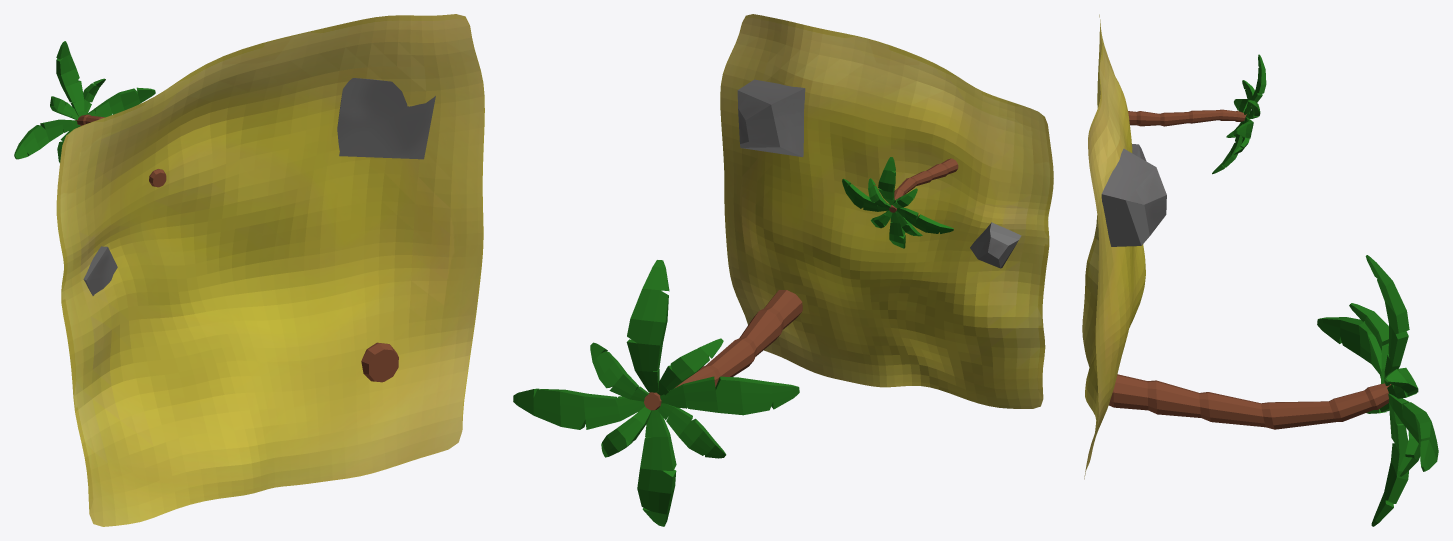
The model's file is Ilha Projeto Arcdade.fbx.
3 renders of one model, left to right at view 1: azimuth 30°, elevation 25°; view 2: azimuth 150°, elevation 25°; view 3: azimuth 270°, elevation 25°, orthographic. The views are drawn at different scales.
Visible parts, largest first — view 1: Ilha, Pedra, Folhas.010, Folhas.008, Tronco, Pedra.001, Folhas.009; view 2: Ilha, Pedra, Folhas.003, Tronco, Folhas.002, Folhas, Folhas.001, Folhas.007, Folhas.006, Pedra.001, Folhas.004, Folhas.005 (+2 smaller); view 3: Ilha, Tronco, Pedra, Folhas, Folhas.003, Folhas.001, Folhas.002, Tronco.001, Folhas.004, Folhas.006, Folhas.005, Folhas.010.
Boxes of the visible parts, <box> form: Ilha: <box>56,14,484,526</box>; Pedra: <box>337,78,435,159</box>; Folhas.010: <box>56,41,84,116</box>; Folhas.008: <box>14,119,77,159</box>; Tronco: <box>361,342,398,382</box>; Pedra.001: <box>83,246,117,295</box>; Folhas.009: <box>86,87,155,117</box>; Ilha: <box>720,14,1053,408</box>; Pedra: <box>737,79,805,157</box>; Folhas.003: <box>660,376,799,415</box>; Tronco: <box>644,290,802,410</box>; Folhas.002: <box>513,388,644,429</box>; Folhas: <box>626,260,669,392</box>; Folhas.001: <box>637,409,676,526</box>; Folhas.007: <box>658,403,726,458</box>; Folhas.006: <box>590,342,648,401</box>; Pedra.001: <box>970,222,1021,268</box>; Folhas.004: <box>657,338,723,395</box>; Folhas.005: <box>601,406,651,457</box>; Ilha: <box>1082,14,1145,479</box>; Tronco: <box>1109,374,1391,429</box>; Pedra: <box>1101,148,1166,246</box>; Folhas: <box>1365,255,1409,385</box>; Folhas.003: <box>1317,317,1381,378</box>; Folhas.001: <box>1371,403,1408,526</box>; Folhas.002: <box>1388,393,1438,471</box>; Tronco.001: <box>1128,109,1246,126</box>; Folhas.004: <box>1349,303,1388,383</box>; Folhas.006: <box>1384,367,1418,398</box>; Folhas.005: <box>1397,431,1420,476</box>; Folhas.010: <box>1244,54,1266,114</box>.
Size of the model in its own units: 19740 by 20120 by 15428.
